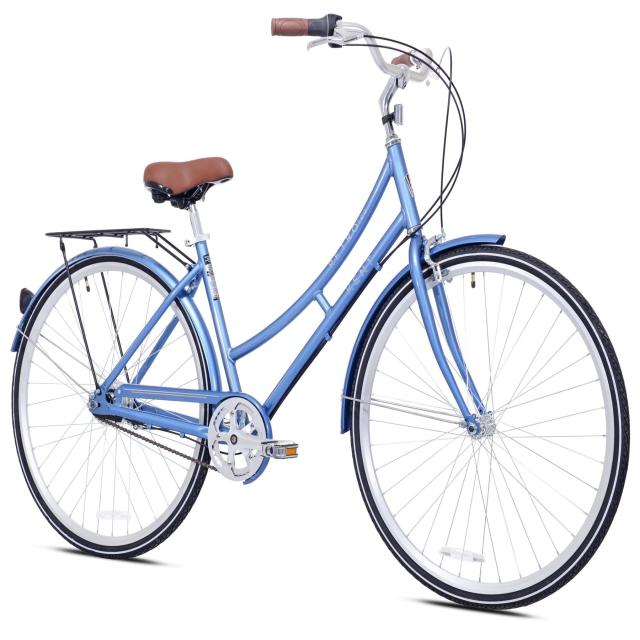urban-bike: (7, 15, 632, 613)
